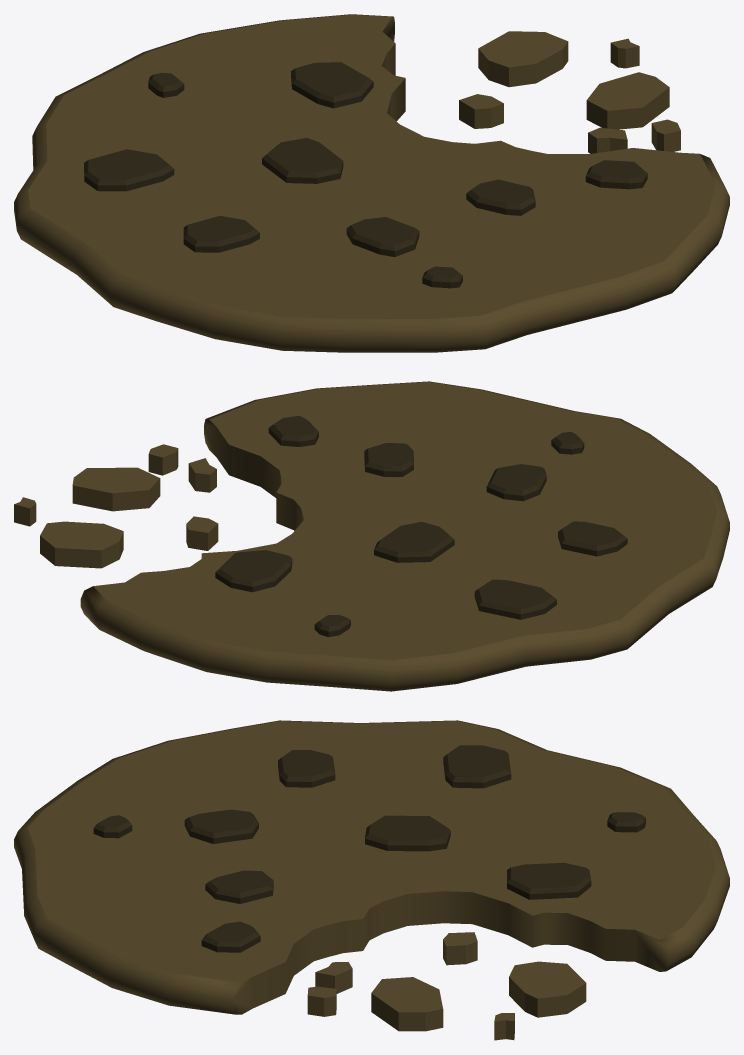
The model's file is cookie.fbx.
3 views of the same model, one above another, from view 1: azimuth 30°, elevation 25°; view 2: azimuth 150°, elevation 25°; view 3: azimuth 270°, elevation 25° (orthographic). The views are drawn at different scales.
Parts seen in each view (by area): view 1: cookie; view 2: cookie; view 3: cookie.
Boxes of the visible parts, left/top/right/bottom form: cookie: left=14, top=14, right=729, bottom=352; cookie: left=14, top=381, right=729, bottom=691; cookie: left=14, top=720, right=729, bottom=1040.
Size of the model in its own units: 186 by 11.92 by 188.
